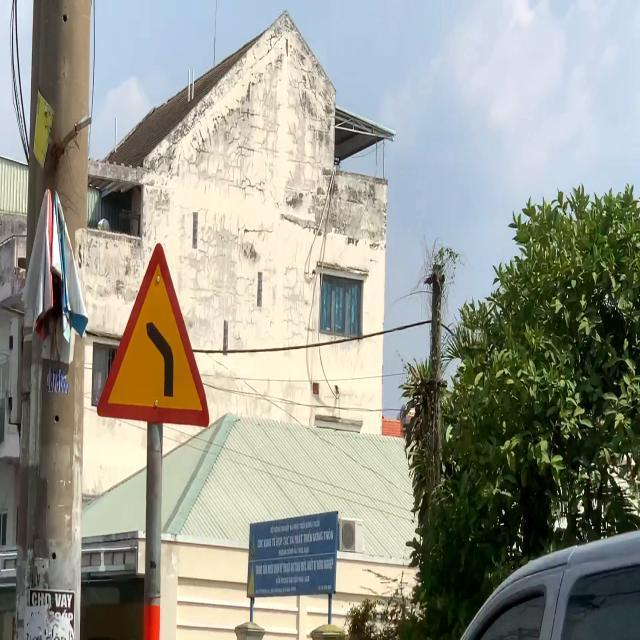201-cho-ngoat-nguy-hiem: (96, 241, 210, 428)
